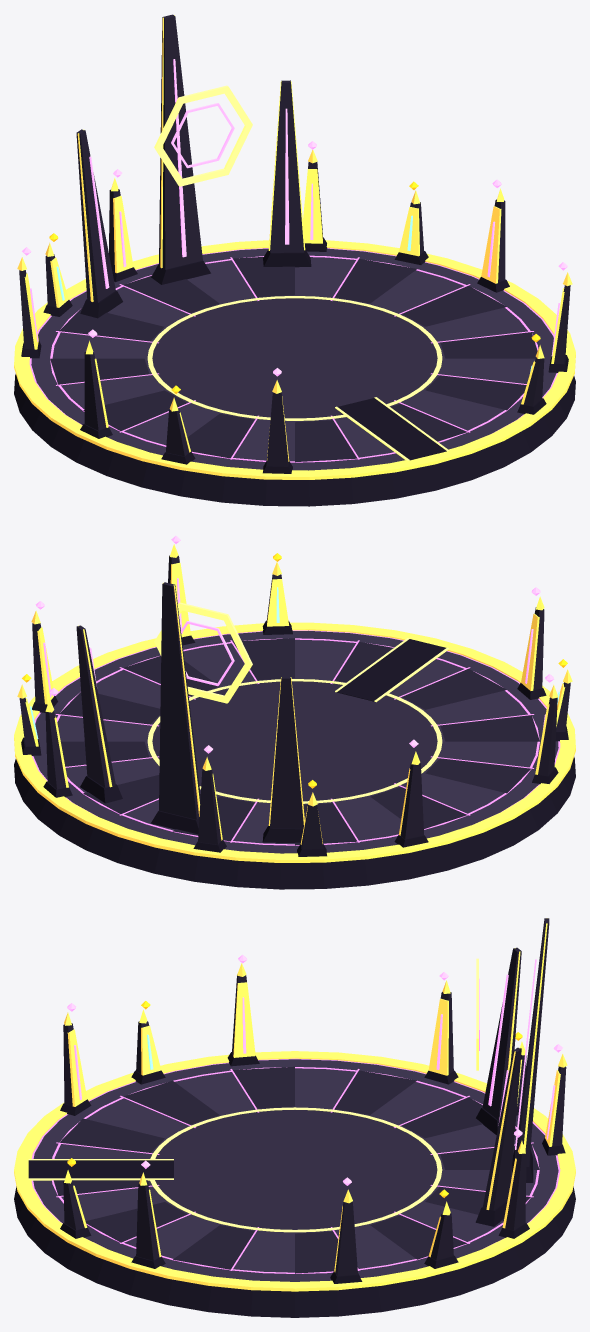
Rendered from Welt2_Plot.fbx.
The picture shows the model from 3 angles, top to bottom: view 1: azimuth 30°, elevation 25°; view 2: azimuth 150°, elevation 25°; view 3: azimuth 270°, elevation 25°; orthographic projection.
Parts seen in each view (by area): view 1: Boden_Flaeche, Boden_Innen, Boden_Sockel, Boden_RandGold, K1_Klinge, K0_Klinge, K2_Klinge, Boden_Weg, Boden_RingA, Halo_Hex, Boden_Platte_0, Boden_Platte_22 (+27 smaller); view 2: Boden_Flaeche, Boden_Innen, Boden_Sockel, Boden_RandGold, K1_Klinge, K2_Klinge, K0_Klinge, Boden_Weg, Boden_Platte_14, Boden_Platte_16, Boden_Platte_12, Boden_Platte_20 (+28 smaller); view 3: Boden_Flaeche, Boden_Innen, Boden_Sockel, Boden_RandGold, Boden_Weg, K0_Klinge, K2_Klinge, Boden_RingA, K1_Klinge, Boden_Platte_10, Boden_Platte_22, Boden_Platte_14 (+23 smaller).
Part boxes in pixels (x1,y1,x2,y2): Boden_Flaeche: (31,248,556,470); Boden_Innen: (152,298,437,418); Boden_Sockel: (14,374,575,506); Boden_RandGold: (14,240,575,479); K1_Klinge: (159,14,202,269); K0_Klinge: (270,80,304,252); K2_Klinge: (76,129,115,302); Boden_Weg: (338,398,446,460); Boden_RingA: (147,296,442,420); Halo_Hex: (154,85,252,186); Boden_Platte_0: (402,285,506,326); Boden_Platte_22: (440,332,537,358); Boden_Flaeche: (33,630,558,853); Boden_Innen: (152,681,437,801); Boden_Sockel: (14,757,575,889); Boden_RandGold: (14,622,575,862); K1_Klinge: (159,582,200,819); K2_Klinge: (270,676,303,828); K0_Klinge: (76,625,115,787); Boden_Weg: (336,639,445,701); Boden_Platte_14: (440,715,539,741); Boden_Platte_16: (402,668,506,709); Boden_Platte_12: (425,758,530,793); Boden_Platte_20: (233,638,294,680); Boden_Flaeche: (33,1059,558,1281); Boden_Innen: (155,1110,437,1229); Boden_Sockel: (14,1186,575,1317); Boden_RandGold: (14,1051,575,1291); Boden_Weg: (28,1160,173,1178); K0_Klinge: (482,1047,521,1210); K2_Klinge: (482,947,521,1120); Boden_RingA: (150,1107,442,1232); K1_Klinge: (516,918,549,1166); Boden_Platte_10: (335,1070,416,1114); Boden_Platte_22: (173,1225,254,1269); Boden_Platte_14: (123,1080,219,1124).
Size of the model in its own units: 116 by 63.4 by 116.
